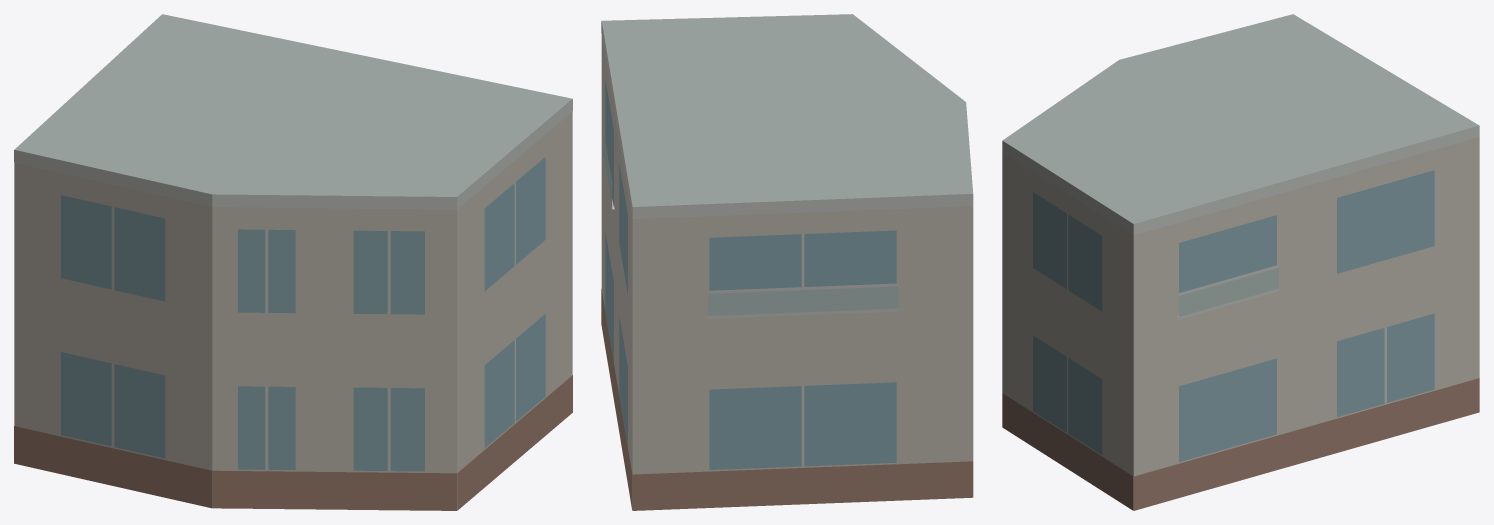
File: survey-upis-32515156.glb
3 renders of one model, left to right at view 1: azimuth 30°, elevation 25°; view 2: azimuth 150°, elevation 25°; view 3: azimuth 270°, elevation 25°, orthographic. The views are drawn at different scales.
Parts seen in each view (by area): view 1: survey-upis-32515156.tmp; view 2: survey-upis-32515156.tmp; view 3: survey-upis-32515156.tmp.
Boxes of the visible parts, x1,y1,x2,y2 form: survey-upis-32515156.tmp: [14, 14, 572, 510]; survey-upis-32515156.tmp: [601, 14, 973, 510]; survey-upis-32515156.tmp: [1002, 14, 1479, 510].
Size of the model in its own units: 9.59 by 6.1 by 9.21.
